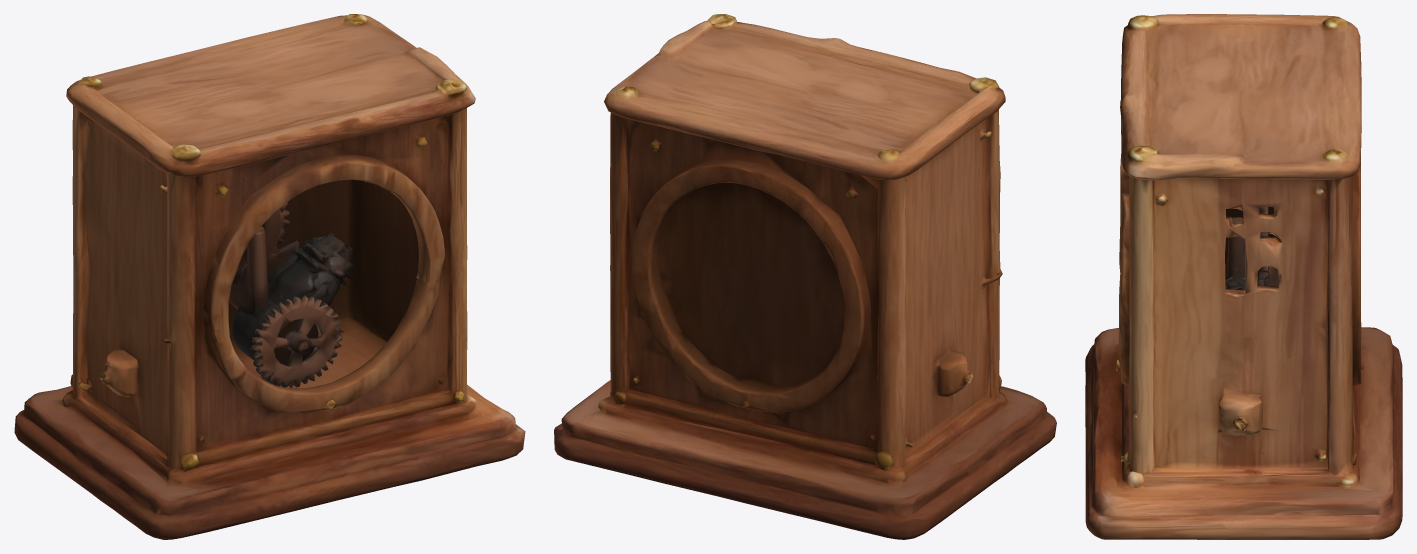
Rendered from theatre_gearbox.glb.
3 renders of one model, left to right at view 1: azimuth 30°, elevation 25°; view 2: azimuth 150°, elevation 25°; view 3: azimuth 270°, elevation 25°, orthographic.
Parts seen in each view (by area): view 1: tripo_node_b672315f-7e81-47c3-8597-a195312edf45; view 2: tripo_node_b672315f-7e81-47c3-8597-a195312edf45; view 3: tripo_node_b672315f-7e81-47c3-8597-a195312edf45.
Part boxes in pixels (bbox=[...]): tripo_node_b672315f-7e81-47c3-8597-a195312edf45: bbox=[14, 14, 525, 539]; tripo_node_b672315f-7e81-47c3-8597-a195312edf45: bbox=[554, 14, 1056, 539]; tripo_node_b672315f-7e81-47c3-8597-a195312edf45: bbox=[1085, 14, 1402, 539].
Bounding box in the file's own units: 0.27 × 0.25 × 0.195.
1 material, 1 textured.
